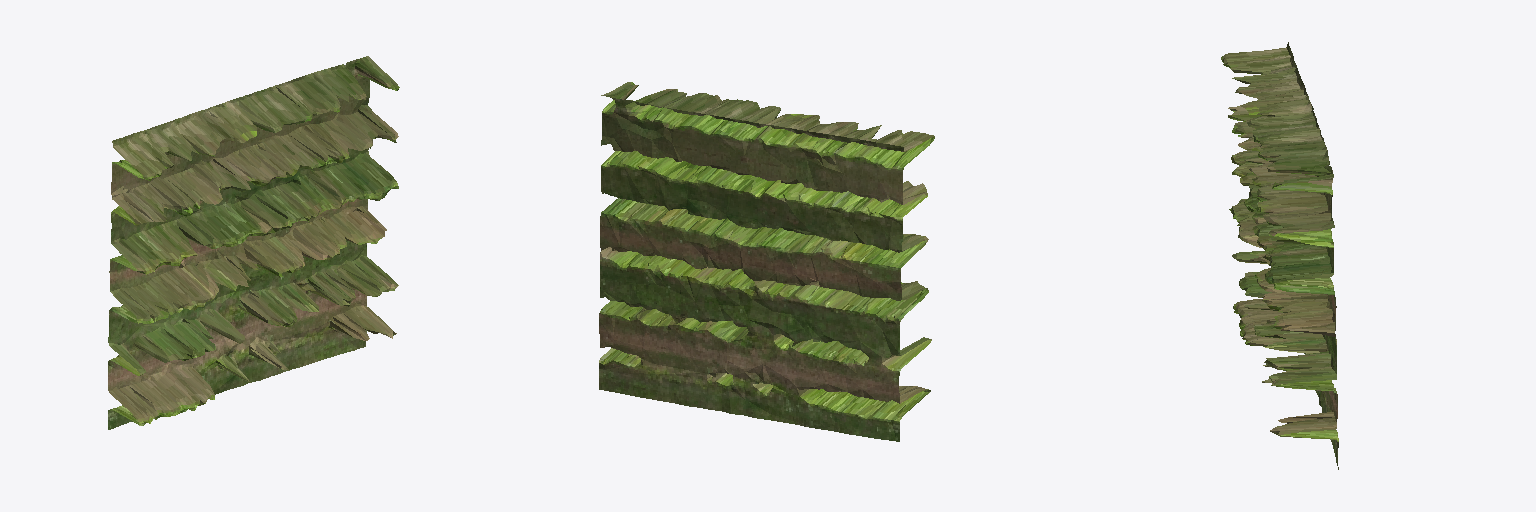
3 renders of one model, left to right at view 1: azimuth 30°, elevation 25°; view 2: azimuth 150°, elevation 25°; view 3: azimuth 270°, elevation 25°, orthographic.
Bounding box in the file's own units: 10 × 10 × 3.68.
Materials: 1 (1 with a texture image).